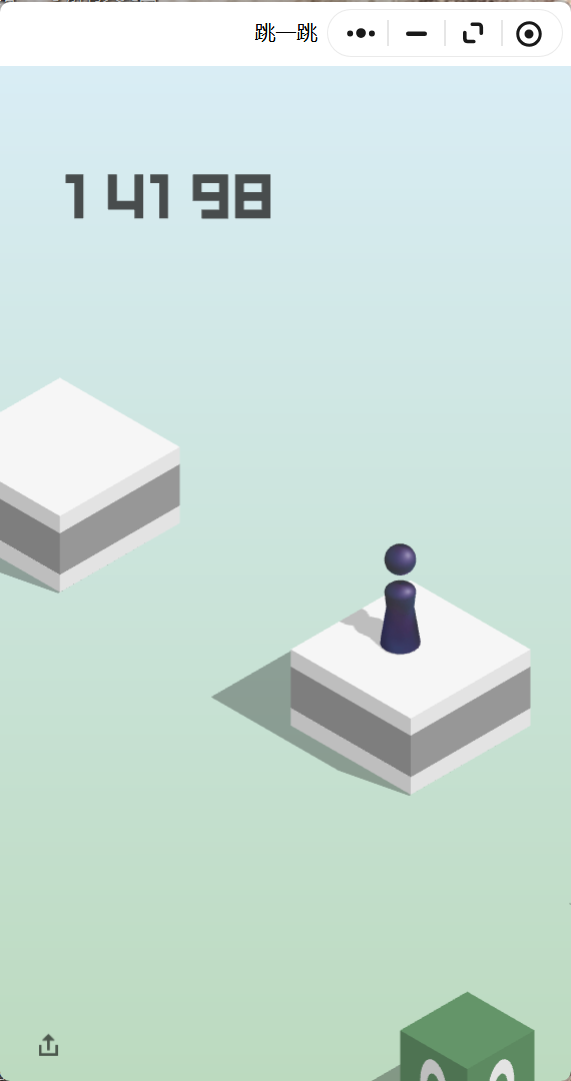piece: (385, 544, 415, 650)
target: (1, 378, 180, 516)
